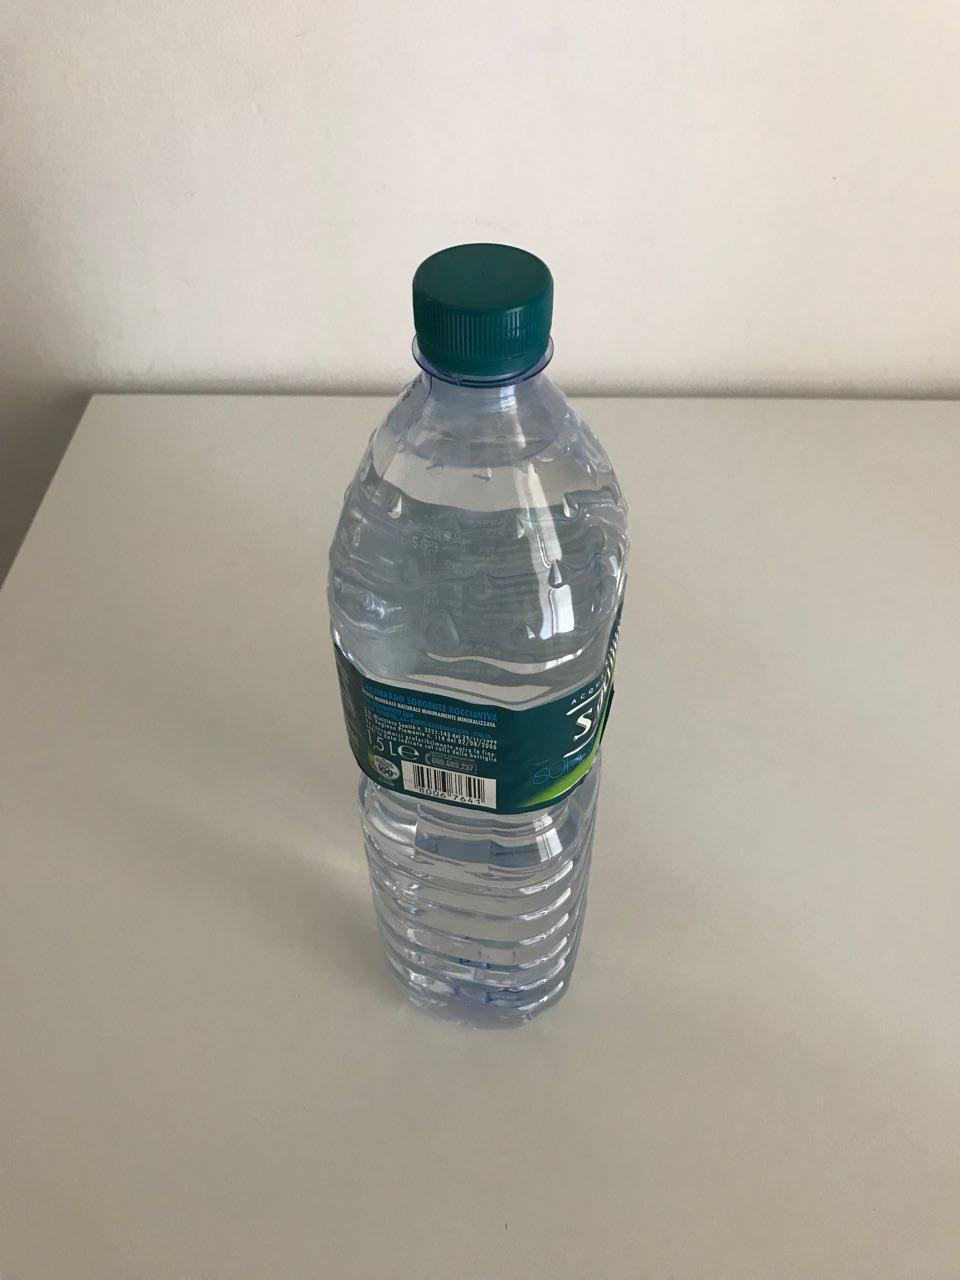san_bernardo: (324, 241, 631, 1036)
